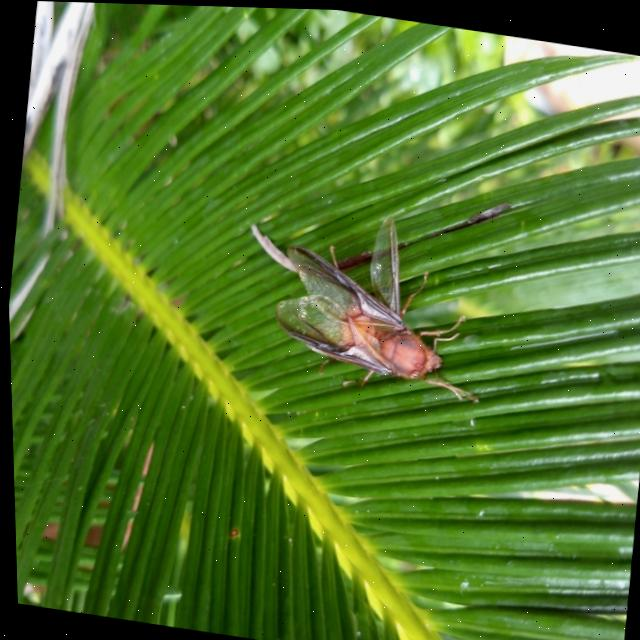Alive-Male-Alate: (262, 196, 497, 404)
